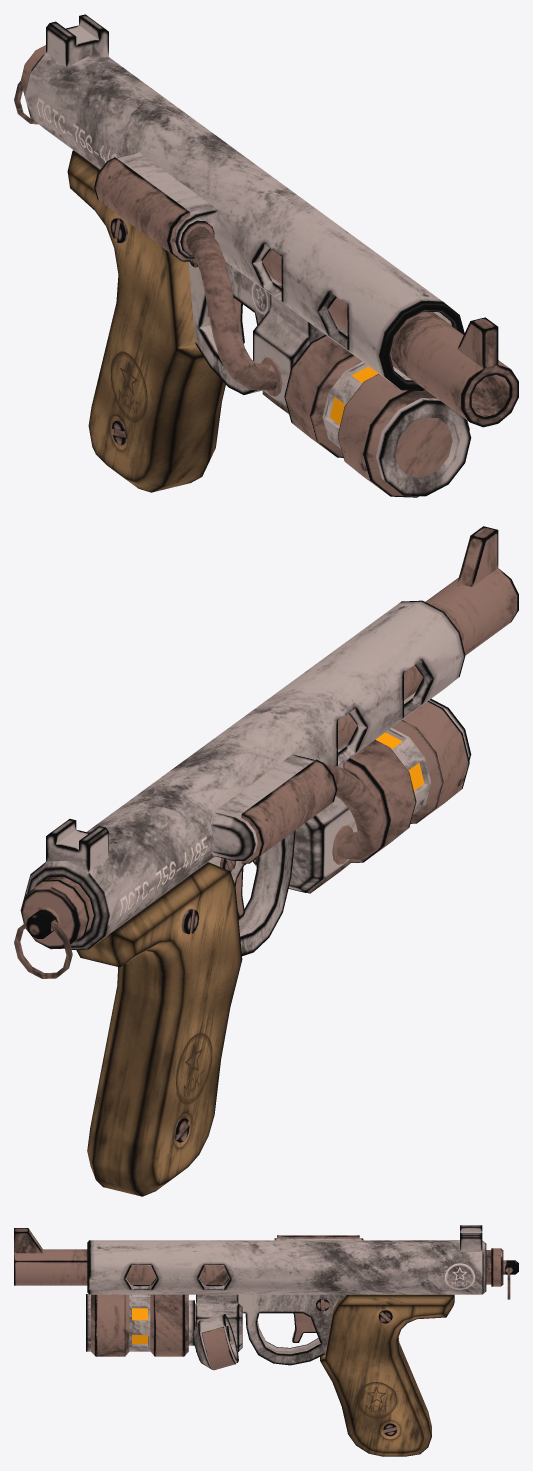
The picture shows the model from 3 angles, top to bottom: view 1: azimuth 30°, elevation 25°; view 2: azimuth 150°, elevation 25°; view 3: azimuth 270°, elevation 25°; orthographic projection. The views are drawn at different scales.
Parts seen in each view (by area): view 1: Body_Material; view 2: Body_Material; view 3: Body_Material.
Part boxes in pixels (bbox=[...]): Body_Material: bbox=[14, 14, 518, 497]; Body_Material: bbox=[14, 526, 518, 1196]; Body_Material: bbox=[14, 1225, 518, 1456].
Size of the model in its own units: 0.0888 by 0.1642 by 0.34.
Materials: 1 (1 with a texture image).
